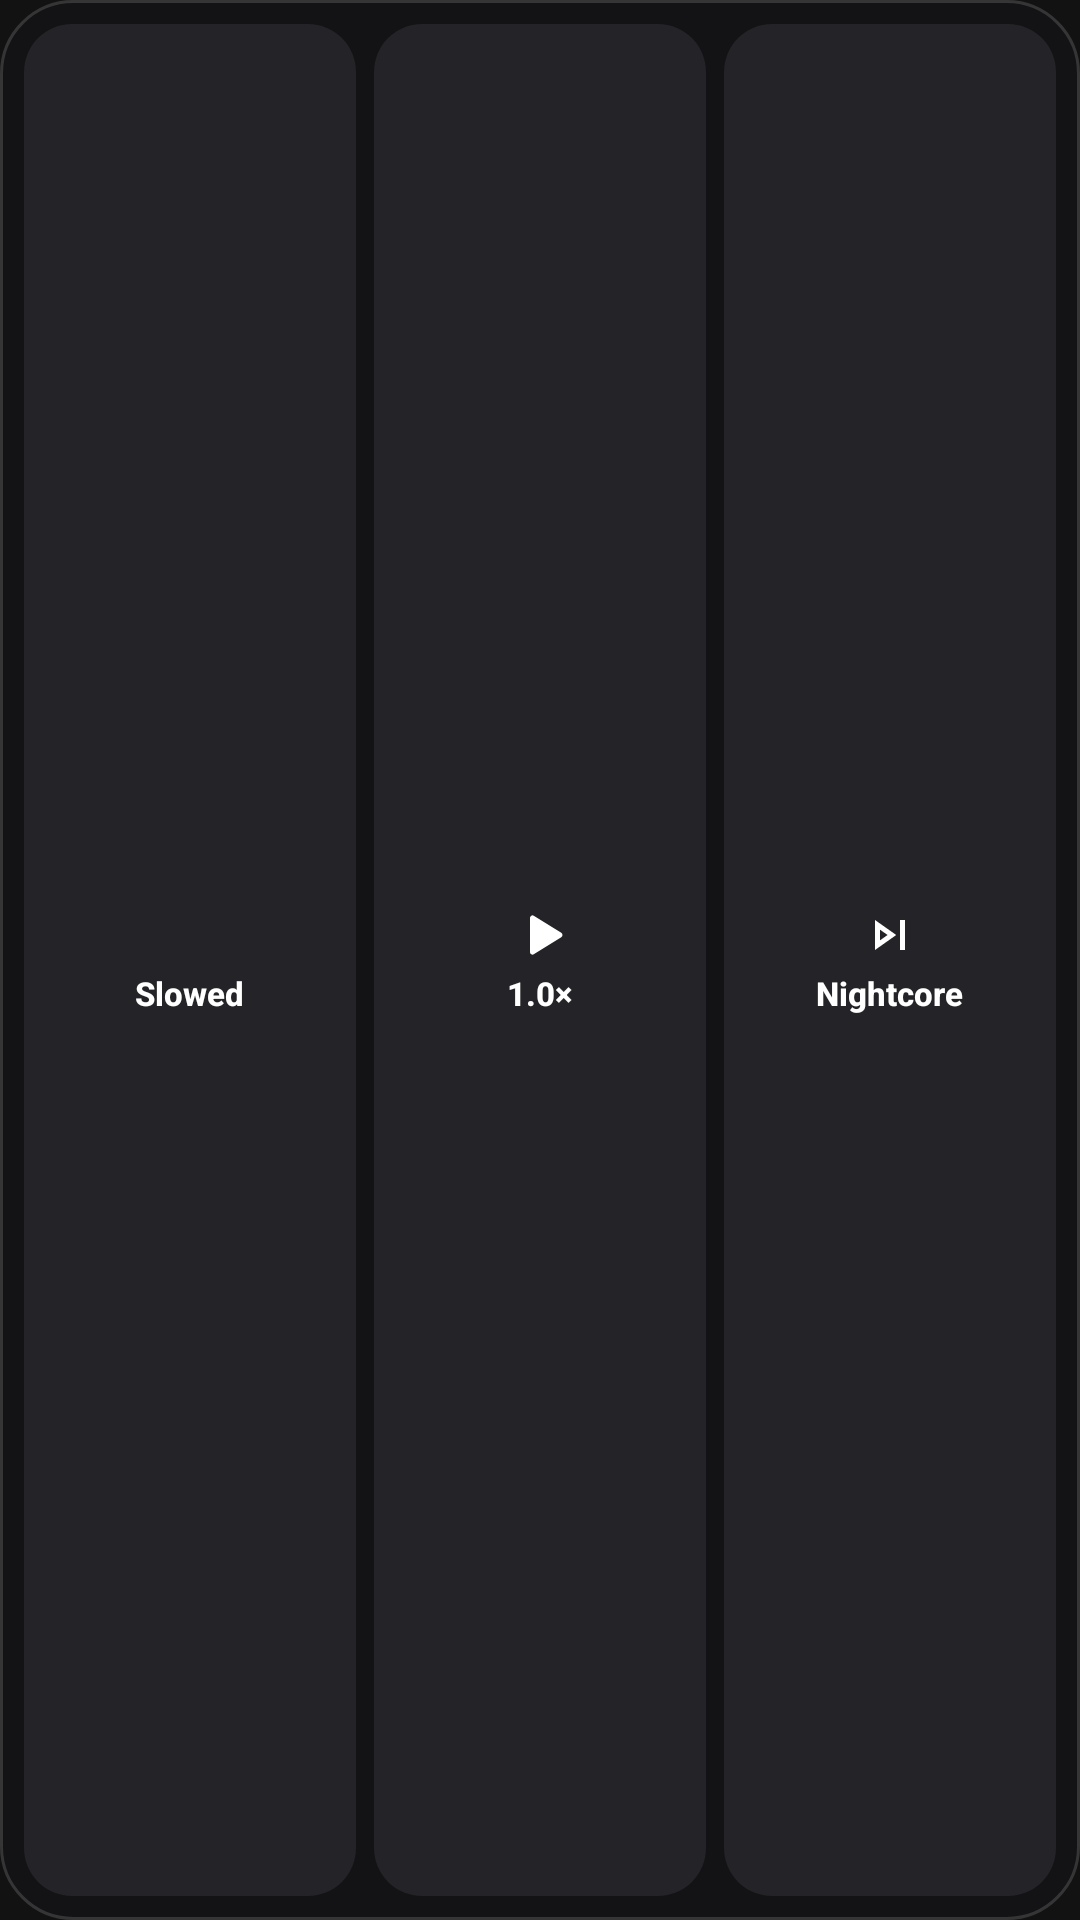

Point at icon controls on the screen. Image size 1080×1920, points as [x,y].
widget play: [546,935]
widget skip next: [890,935]
